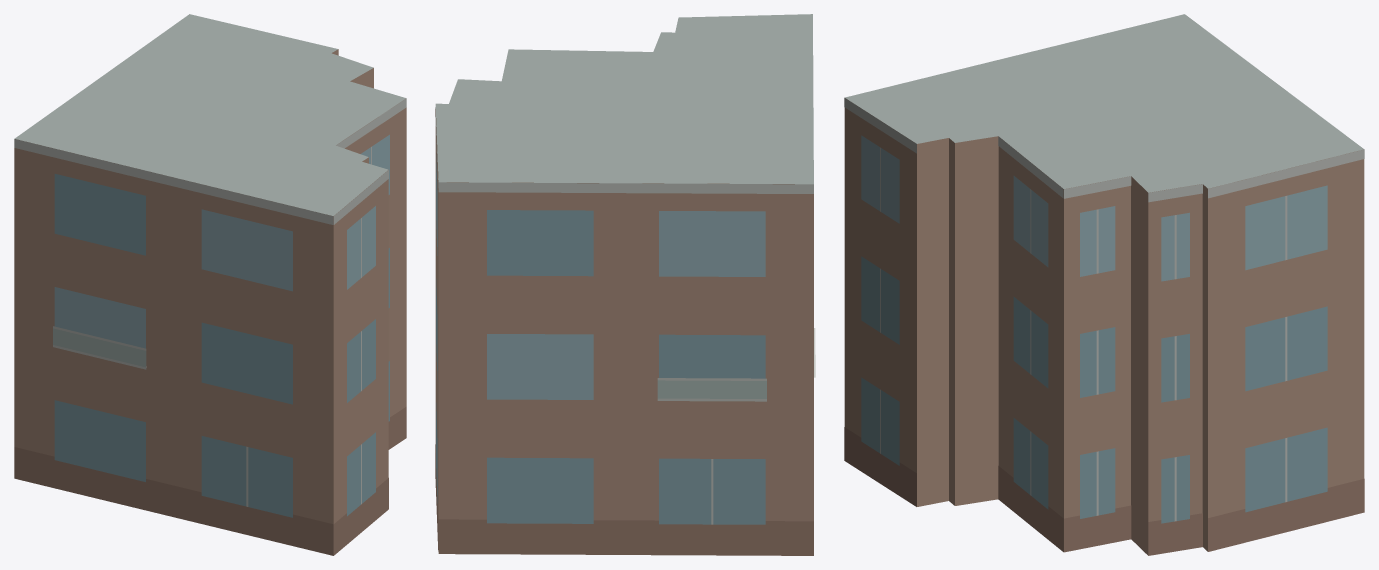
Rendered from survey-upis-32465329.glb.
The picture shows the model from 3 angles, left to right: view 1: azimuth 30°, elevation 25°; view 2: azimuth 150°, elevation 25°; view 3: azimuth 270°, elevation 25°; orthographic projection. The views are drawn at different scales.
Visible parts, largest first — view 1: survey-upis-32465329.tmp; view 2: survey-upis-32465329.tmp; view 3: survey-upis-32465329.tmp.
Boxes of the visible parts, box(x1,y1,x2,y2) form: survey-upis-32465329.tmp: box(14, 14, 406, 555); survey-upis-32465329.tmp: box(435, 14, 815, 555); survey-upis-32465329.tmp: box(844, 14, 1364, 555).
Bounding box in the file's own units: 9.66 × 9.15 × 11.88.
